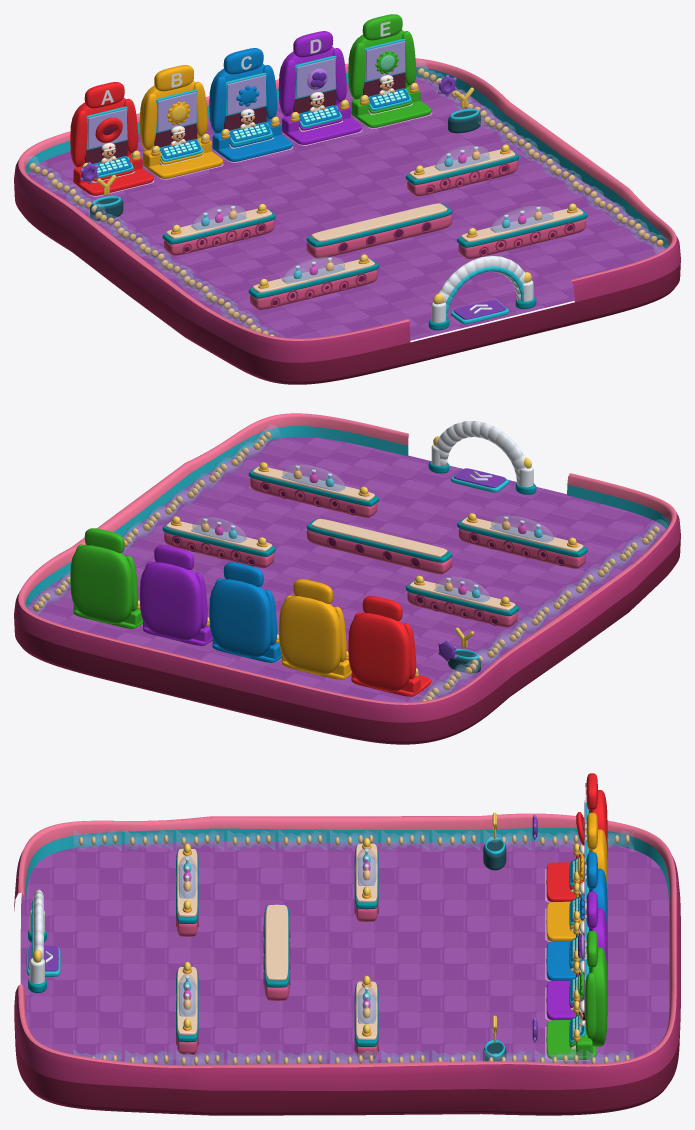
Rendered from factory.glb.
3 renders of one model, top to bottom at view 1: azimuth 30°, elevation 25°; view 2: azimuth 150°, elevation 25°; view 3: azimuth 270°, elevation 25°, orthographic. The views are drawn at different scales.
Parts seen in each view (by area): view 1: Piso pintado, wine, shell, duct_glass, cyan, hotpink, benchpink, cabC, visor, benchcream, cabE, cabA (+17 smaller); view 2: Piso pintado, wine, shell, hotpink, duct_glass, benchpink, cabA, cyan, cabC, cabE, cabB, cabD (+10 smaller); view 3: Piso pintado, shell, wine, duct_glass, hotpink, cyan, benchcream, cabE, gold, glass_bench, turq, cabA (+10 smaller).
Boxes of the visible parts, bbox=[...] form: Piso pintado: bbox=[27, 77, 665, 340]; wine: bbox=[14, 126, 680, 384]; shell: bbox=[14, 160, 680, 362]; duct_glass: bbox=[25, 61, 668, 336]; cyan: bbox=[25, 39, 668, 324]; hotpink: bbox=[18, 58, 676, 340]; benchpink: bbox=[164, 160, 585, 309]; cabC: bbox=[209, 48, 292, 161]; visor: bbox=[88, 41, 404, 148]; benchcream: bbox=[166, 149, 583, 292]; cabE: bbox=[348, 14, 431, 127]; cabA: bbox=[70, 82, 153, 195]; Piso pintado: bbox=[27, 436, 666, 702]; wine: bbox=[14, 537, 680, 744]; shell: bbox=[14, 512, 680, 722]; hotpink: bbox=[18, 413, 676, 704]; duct_glass: bbox=[25, 424, 667, 701]; benchpink: bbox=[164, 478, 585, 627]; cabA: bbox=[348, 596, 431, 696]; cyan: bbox=[25, 426, 669, 659]; cabC: bbox=[209, 562, 281, 662]; cabE: bbox=[70, 528, 142, 628]; cabB: bbox=[278, 579, 351, 679]; cabD: bbox=[139, 545, 212, 645]; Piso pintado: bbox=[20, 840, 669, 1065]; shell: bbox=[14, 851, 680, 1090]; wine: bbox=[14, 822, 680, 1115]; duct_glass: bbox=[74, 829, 633, 1064]; hotpink: bbox=[18, 813, 676, 1068]; cyan: bbox=[25, 802, 669, 1057]; benchcream: bbox=[177, 843, 377, 1040]; cabE: bbox=[546, 931, 607, 1059]; gold: bbox=[78, 835, 629, 1065]; glass_bench: bbox=[176, 848, 377, 1023]; turq: bbox=[28, 846, 378, 1046]; cabA: bbox=[546, 773, 607, 901].
Bounding box in the file's own units: 26.16 × 6.3 × 28.63.
41 materials, 1 textured.
